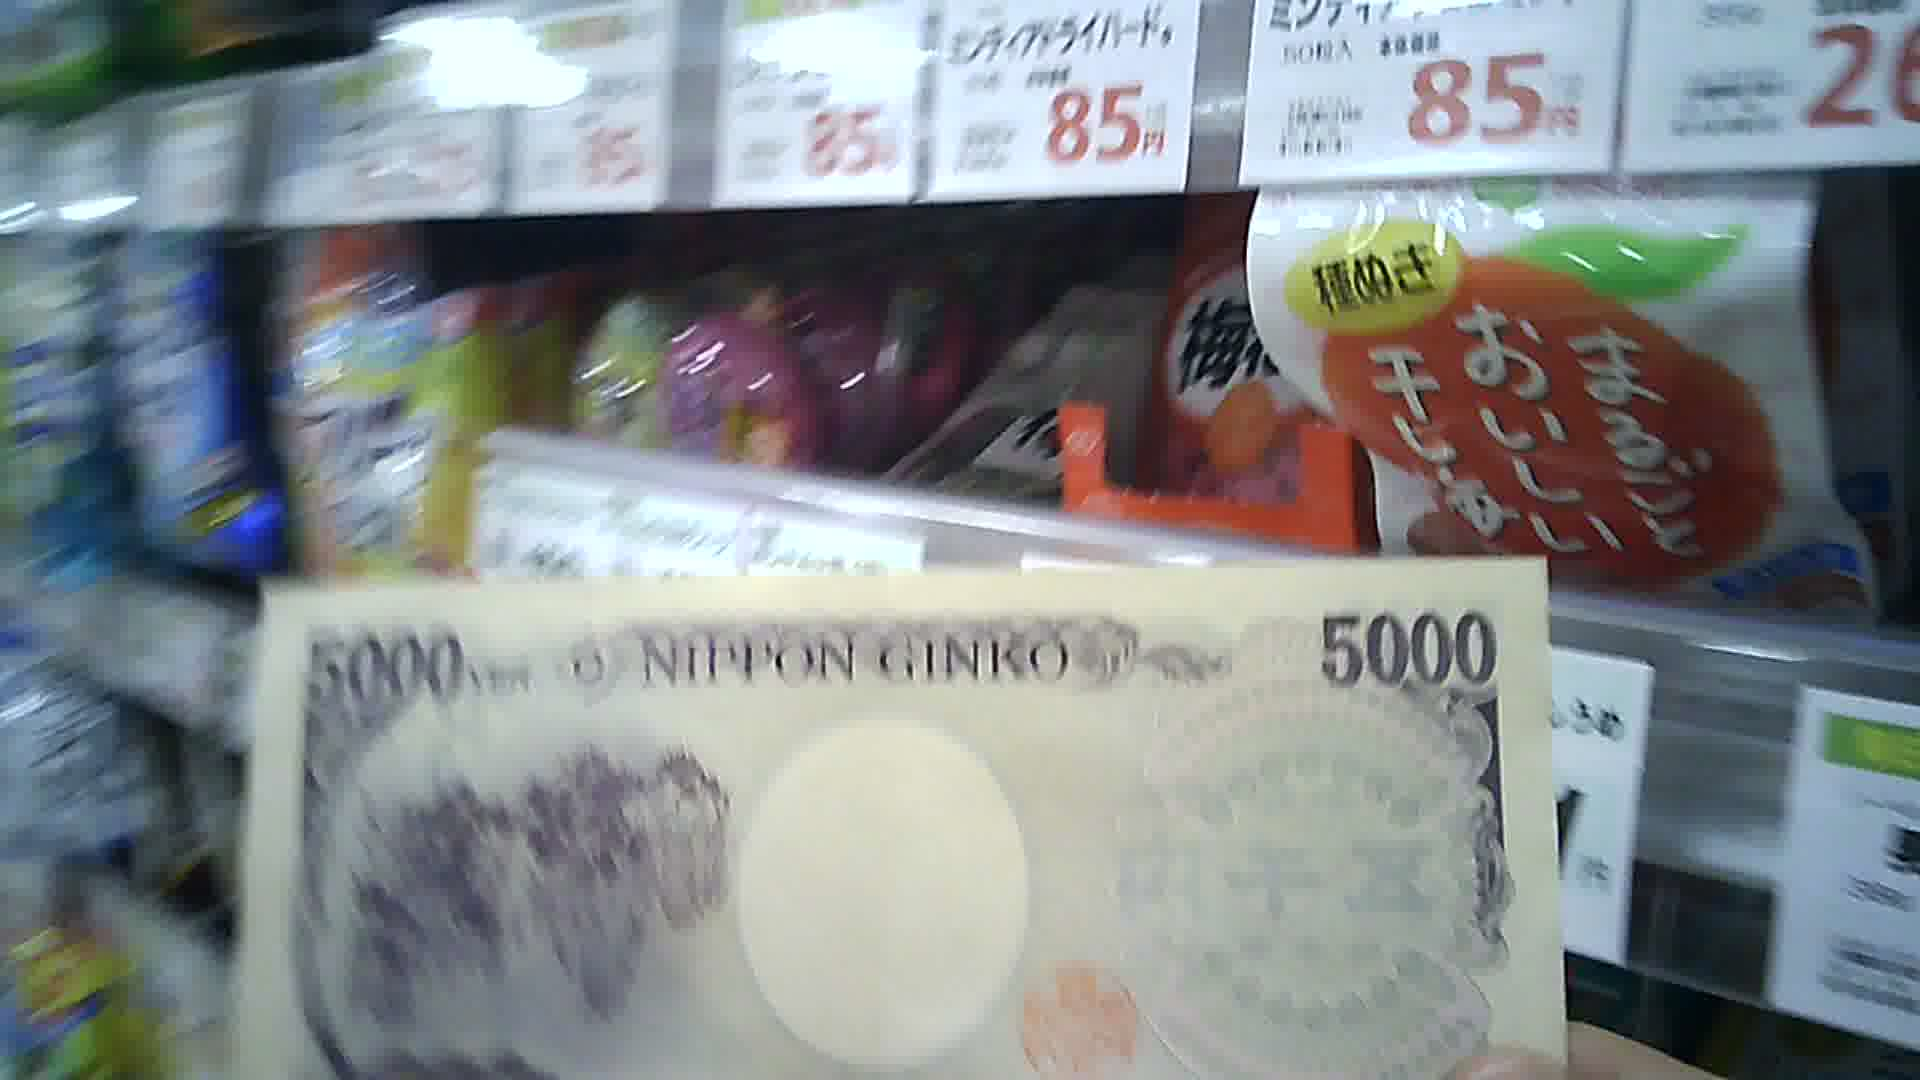5,000 Yen: (252, 551, 1596, 1069)
